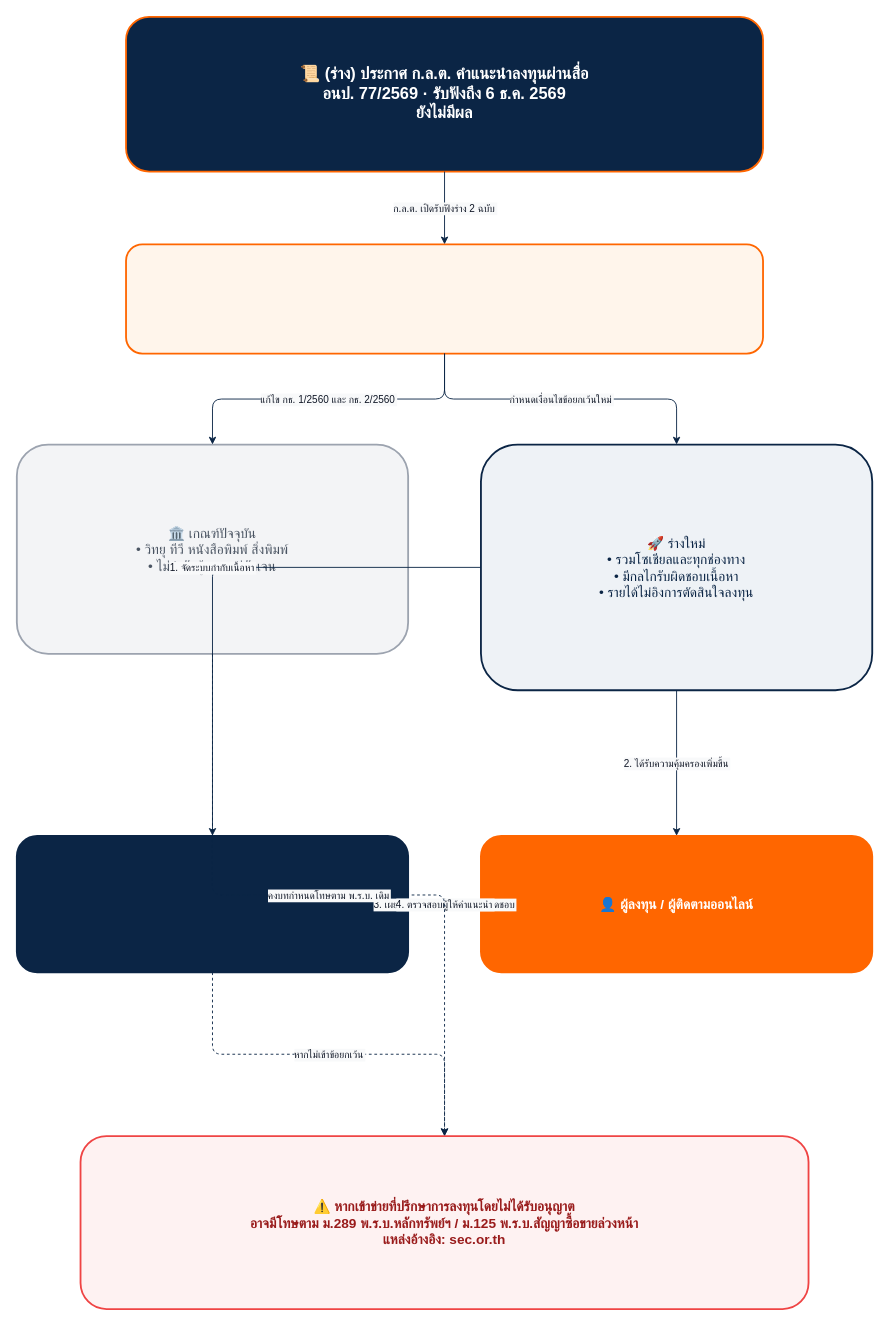
Image size: 888x1325. Some labels were removed from this diagram. Here are the shapes that lost their labels. From the top down, the box of each, then its label:
(125, 243, 763, 354): ขยายเกณฑ์ถึงสื่อสังคมออนไลน์ ข้อยกเว้นใช้เฉพาะผู้เผยแพร่ข่าวสารโดยสุจริต
(15, 834, 409, 973): 🏢 สื่อออนไลน์ / แพลตฟอร์มคอนเทนต์ / finfluencer
